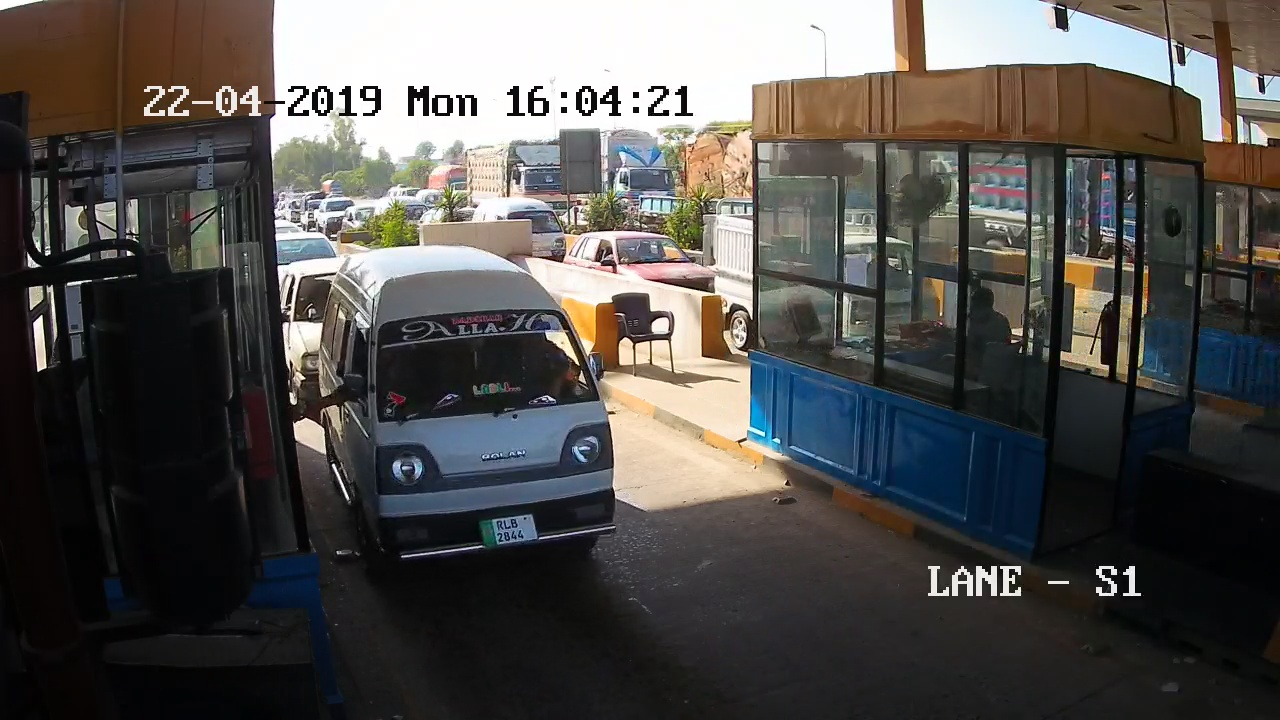Number Plate (Car): (477, 514, 544, 544)
